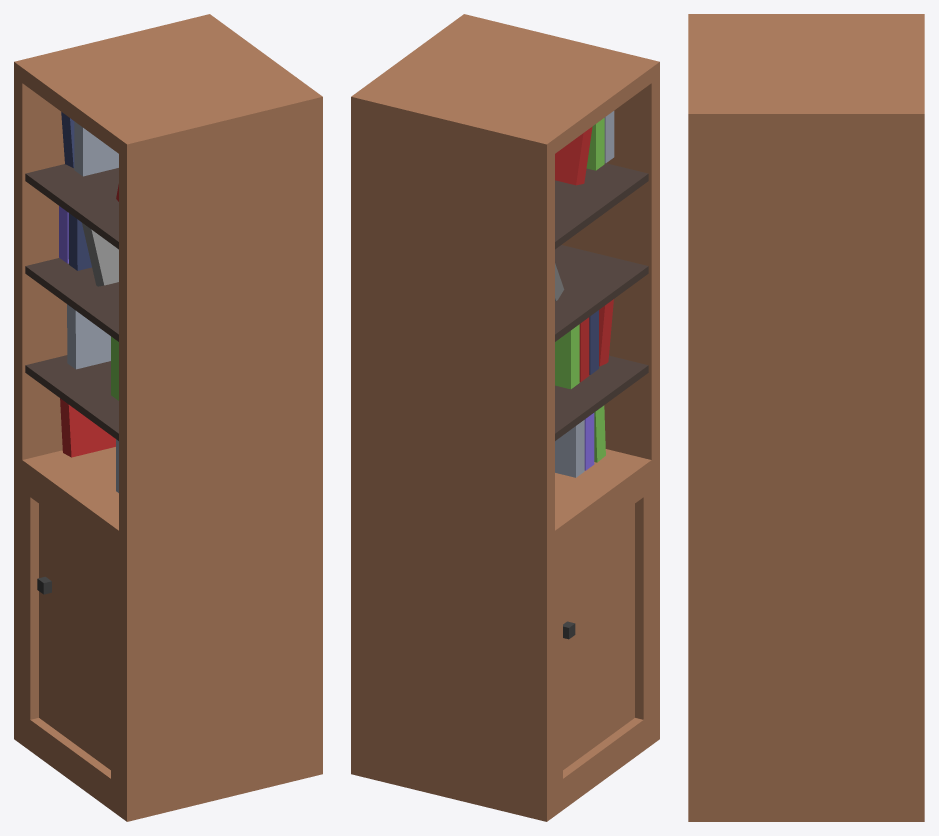
The model's file is bookshell.fbx.
3 views of the same model, side by side, from view 1: azimuth 30°, elevation 25°; view 2: azimuth 150°, elevation 25°; view 3: azimuth 270°, elevation 25° (orthographic). The views are drawn at different scales.
Visible parts, largest first — view 1: BookShel; view 2: BookShel; view 3: BookShel.
Boxes of the visible parts, box(x1,y1,x2,y2) form: BookShel: box(14, 14, 322, 821); BookShel: box(351, 14, 659, 821); BookShel: box(688, 14, 924, 821).
Bounding box in the file's own units: 130 × 429 × 130.
